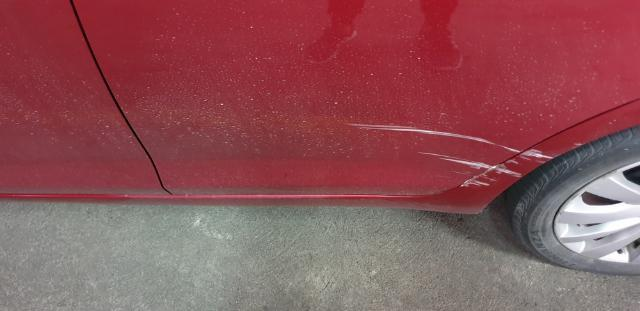scratch: (342, 121, 519, 182), (455, 149, 560, 190)
